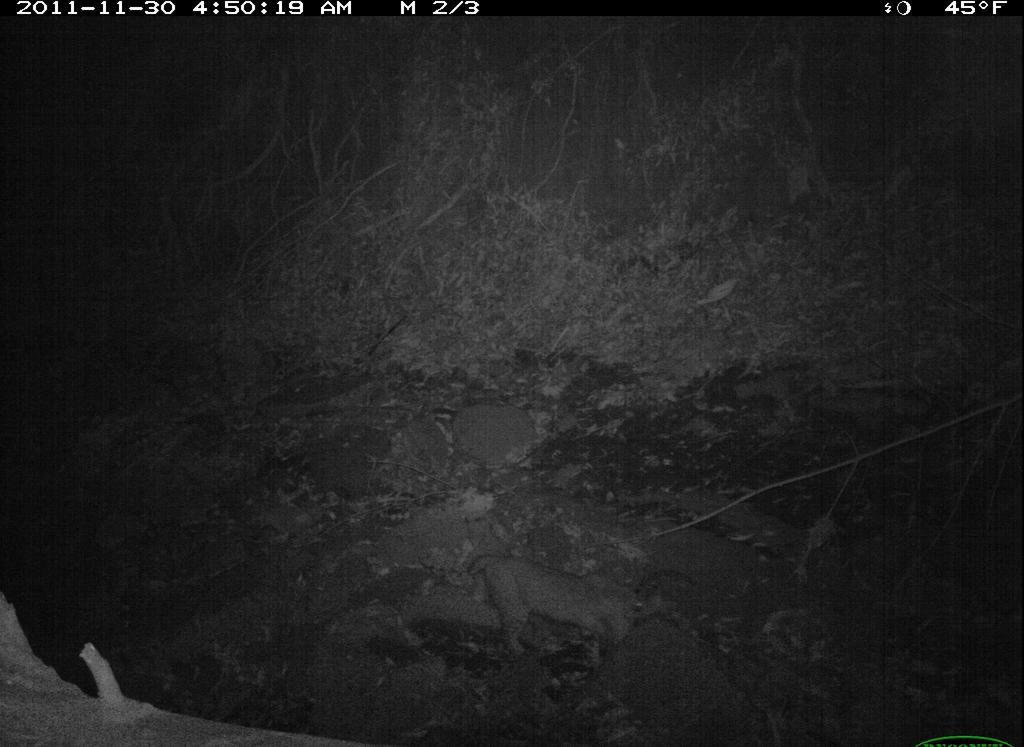bobcat: (460, 542, 679, 671)
